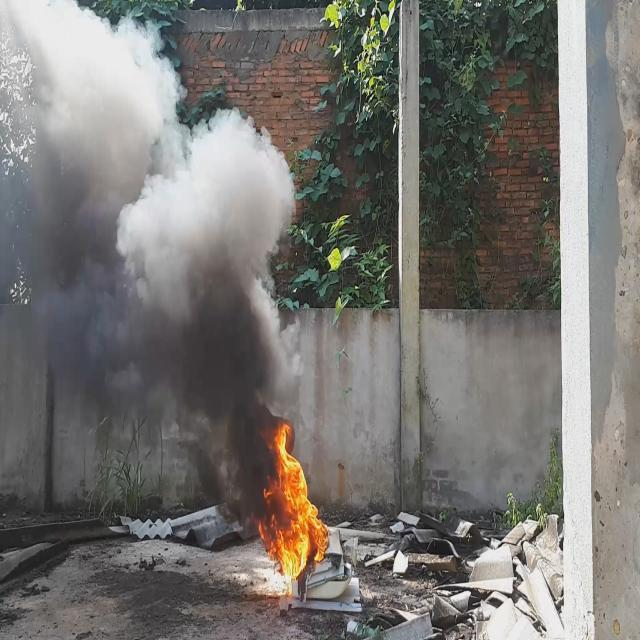Fire: (256, 420, 334, 588)
Smoke: (0, 0, 292, 543)
